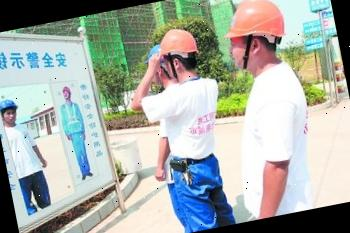helmet: (218, 0, 292, 47), (156, 26, 200, 62), (0, 95, 18, 110)
no_wear: (228, 66, 324, 215), (156, 81, 231, 165)
